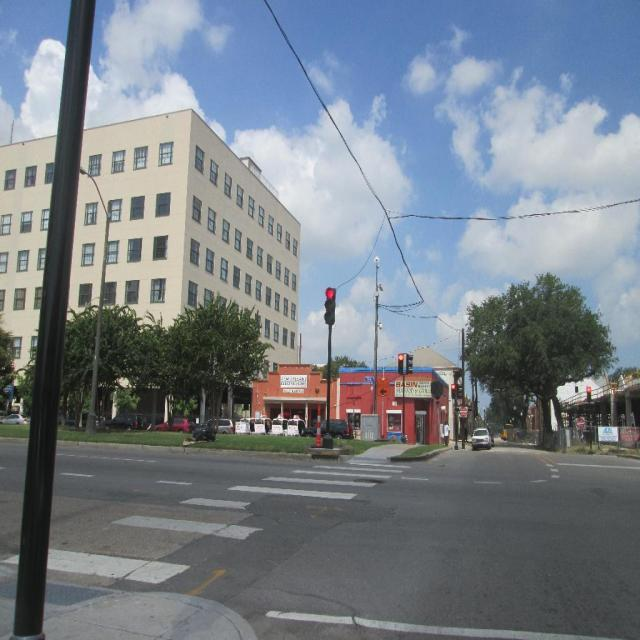traffic light: (325, 287, 336, 324), (407, 354, 415, 373), (397, 353, 404, 374)
